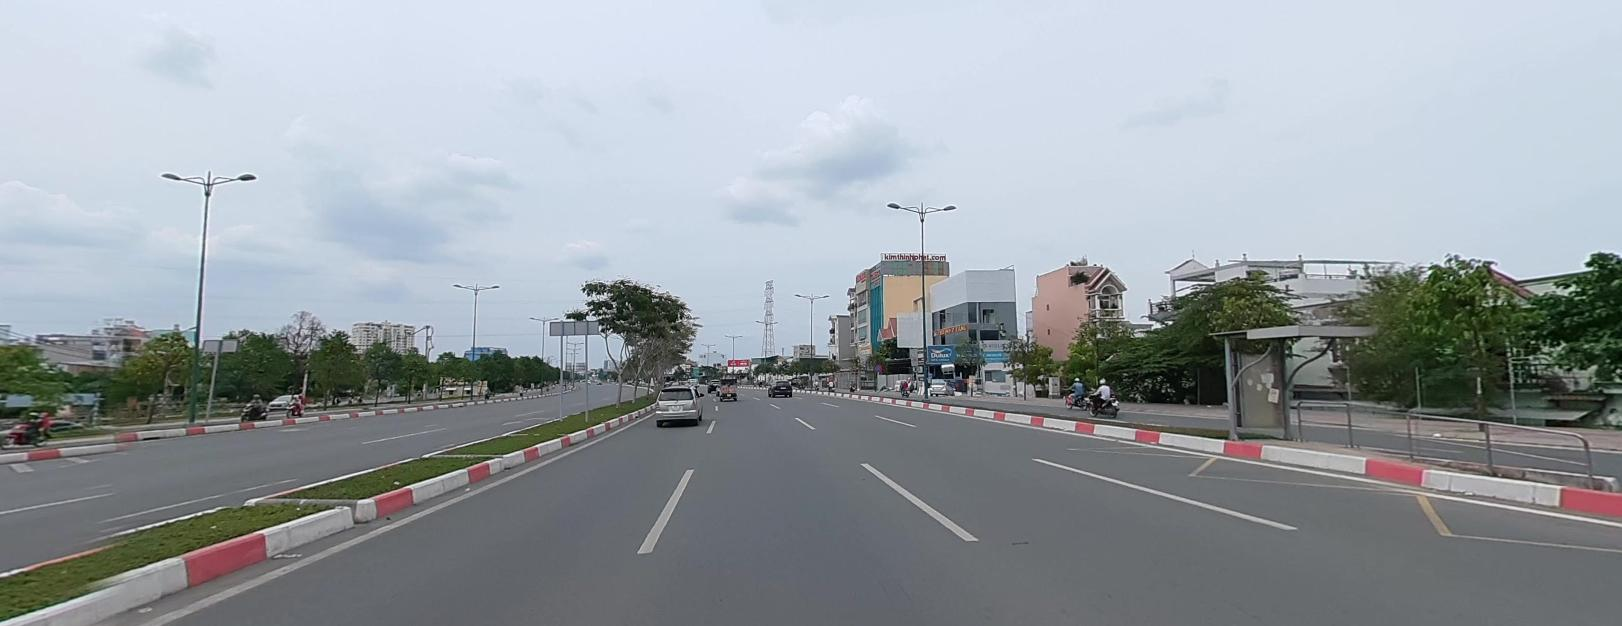Cam dung va do: (874, 363, 881, 370)
